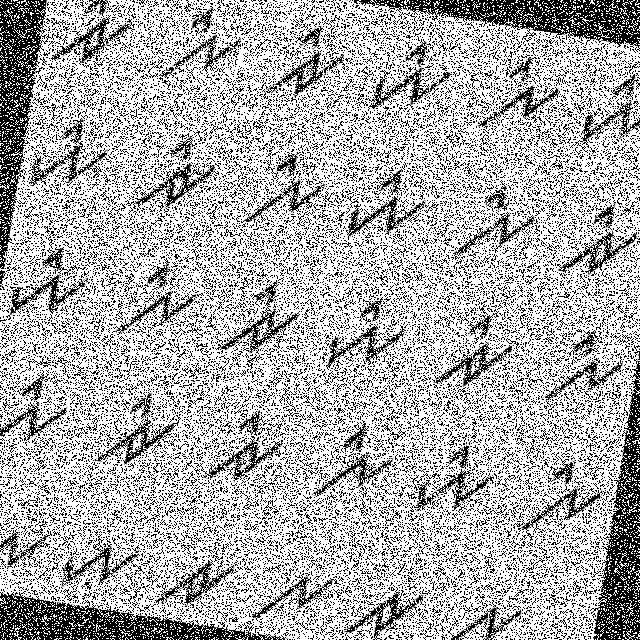la: (244, 558, 341, 639), (435, 589, 531, 639)
li: (443, 174, 553, 281), (529, 316, 636, 424), (469, 44, 573, 153), (300, 410, 403, 514), (106, 244, 206, 350), (514, 440, 612, 548), (156, 0, 251, 95), (238, 143, 334, 236)
ra: (152, 542, 242, 620), (339, 568, 432, 639)
ri: (192, 389, 294, 502), (427, 294, 523, 398), (86, 378, 182, 479), (551, 184, 639, 293), (132, 125, 226, 227), (260, 14, 352, 113), (213, 270, 309, 363), (40, 0, 144, 75)
ya: (50, 528, 149, 600), (0, 511, 51, 586)
yi: (310, 285, 416, 391), (0, 228, 98, 341), (20, 104, 120, 208), (361, 28, 461, 129), (337, 152, 435, 254), (408, 432, 502, 528), (0, 365, 80, 457), (566, 64, 639, 164)
